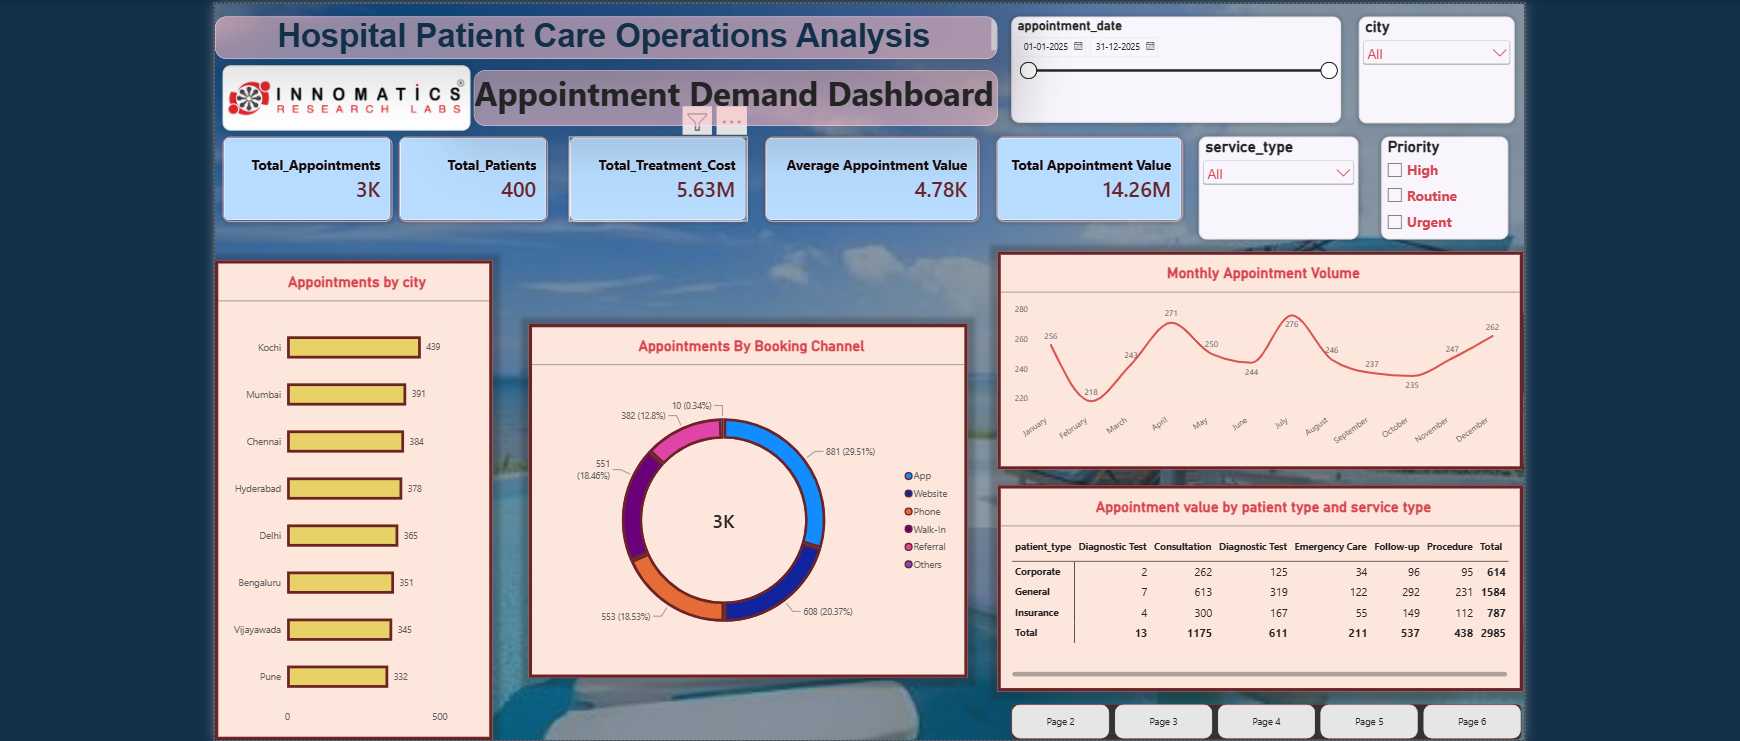

The page's visual inventory and layout, read from the dashboard file:
{"tool":"powerbi","page":{"name":"Page 1","canvas":[1920,1080],"ordinal":0},"visuals":[{"type":"cardVisual","fields":{"Data":["treatments.Total_Appointments"]},"box":[10.3,194.1,249.8,125.9],"z":0},{"type":"cardVisual","fields":{"Data":["treatments.Total_Patients"]},"box":[269.6,194,219.2,126],"z":1000},{"type":"cardVisual","fields":{"Data":["appointments.Total_Treatment_Cost"]},"box":[519.1,194,262,126],"z":2000},{"type":"cardVisual","fields":{"Data":["treatments.Average Appointment Value"]},"box":[806.3,194,315,126],"z":3000},{"type":"clusteredBarChart","title":"Appointments by city","fields":{"Category":["patients.city"],"Y":["treatments.Total_Appointments"]},"box":[0,376.4,407.2,704],"z":4000},{"type":"donutChart","title":"Appointments By Booking Channel","fields":{"Category":["appointments.booking_channel"],"Y":["treatments.Total_Appointments"]},"box":[459.7,468.7,644.2,519.4],"z":5000},{"type":"lineChart","title":"Monthly Appointment Volume","fields":{"Category":["date_table.Date.Variation.Date Hierarchy.Month"],"Y":["treatments.Total_Appointments"]},"box":[1147.3,363.7,771,320],"z":6000},{"type":"slicer","fields":{"Values":["appointments.appointment_date"]},"box":[1169.1,17.6,483.8,156.2],"z":7000},{"type":"slicer","fields":{"Values":["patients.city"]},"box":[1678.5,18.6,229.2,156.9],"z":8000},{"type":"pivotTable","title":"Appointment value by patient type and service type","fields":{"Columns":["appointments.service_type"],"Rows":["patients.patient_type"],"Values":["treatments.Total_Appointments"]},"box":[1148.2,706.2,770.9,302.2],"z":9000},{"type":"textbox","box":[380,97.7,769.1,81.4],"z":10000},{"type":"cardVisual","fields":{"Data":["treatments.Total Appointment Value"]},"box":[1146.5,194,274.6,126],"z":11000},{"type":"slicer","fields":{"Values":["appointments.service_type"]},"box":[1444.1,193.6,234.3,151.2],"z":12000},{"type":"slicer","fields":{"Values":["appointments.priority"]},"box":[1710.9,194,186.5,151.2],"z":13000},{"type":"image","box":[10.9,90.5,363.7,95.9],"z":14000},{"type":"pageNavigator","box":[1169,1027.9,749.2,52.5],"z":15000},{"type":"textbox","box":[0,18.3,1148.2,62.4],"z":16000}]}

Visuals, with their boxes in screenshot pixels (x1, y1, x2, y2):
cardVisual - treatments.Total_Appointments: <box>220,132,389,217</box>
cardVisual - treatments.Total_Patients: <box>396,132,545,217</box>
cardVisual - appointments.Total_Treatment_Cost: <box>565,132,743,217</box>
cardVisual - treatments.Average Appointment Value: <box>760,132,974,217</box>
"Appointments by city" clusteredBarChart: <box>213,255,489,733</box>
"Appointments By Booking Channel" donutChart: <box>525,318,962,670</box>
"Monthly Appointment Volume" lineChart: <box>991,247,1515,464</box>
slicer - appointments.appointment_date: <box>1006,12,1335,118</box>
slicer - patients.city: <box>1352,13,1507,119</box>
"Appointment value by patient type and service type" pivotTable: <box>992,479,1515,684</box>
textbox: <box>471,66,993,122</box>
cardVisual - treatments.Total Appointment Value: <box>991,132,1177,217</box>
slicer - appointments.service_type: <box>1193,131,1352,234</box>
slicer - appointments.priority: <box>1374,132,1500,234</box>
image: <box>220,61,467,126</box>
pageNavigator: <box>1006,698,1515,733</box>
textbox: <box>213,12,992,55</box>
